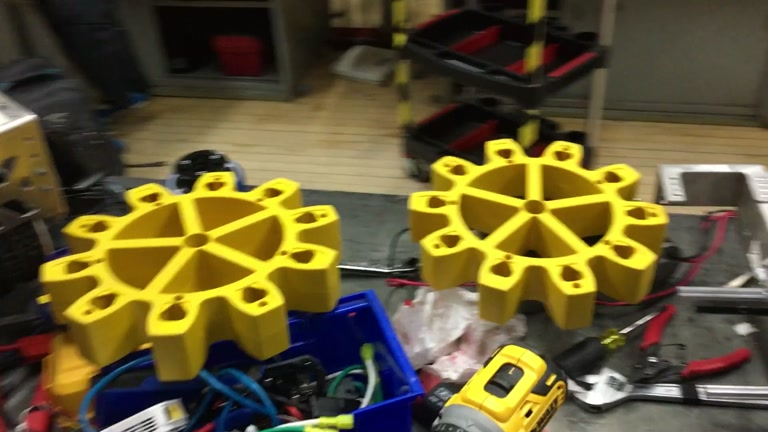gear: (38, 173, 341, 382), (406, 138, 674, 329)
